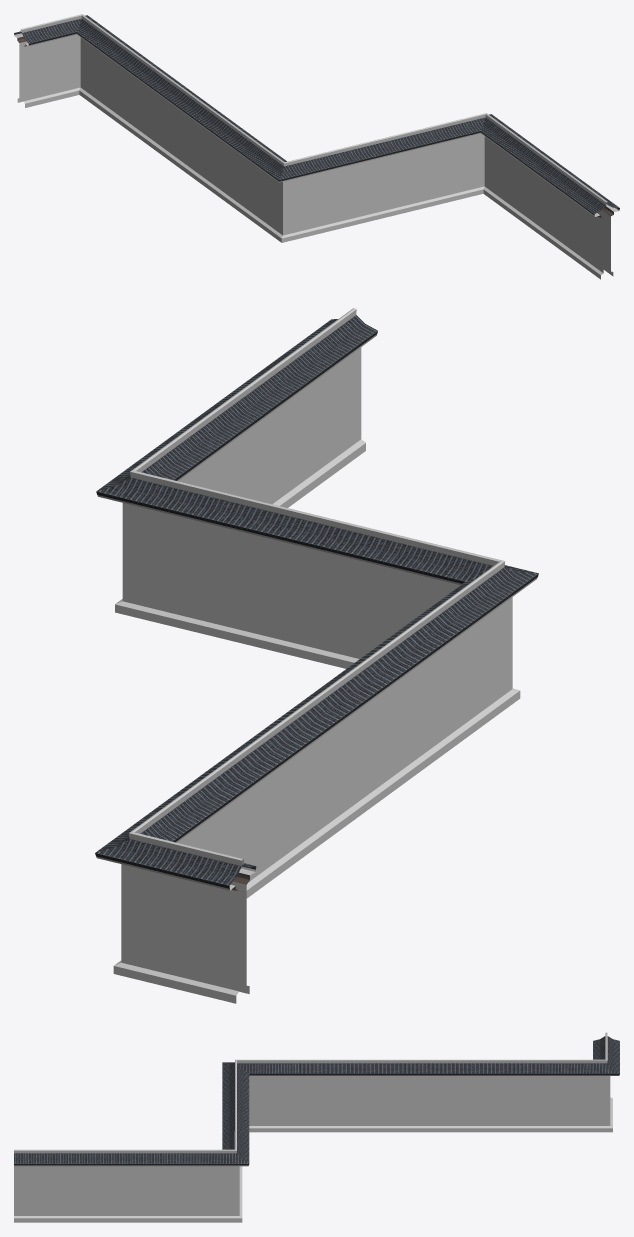
The model's file is JiaYeSi_WeiQiang_7.FBX.
3 views of the same model, one above another, from view 1: azimuth 30°, elevation 25°; view 2: azimuth 150°, elevation 25°; view 3: azimuth 270°, elevation 25° (orthographic). The views are drawn at different scales.
Visible parts, largest first — view 1: Object01, Object09; view 2: Object01, Object09; view 3: Object01, Object09.
Boxes of the visible parts, left/top/right/bottom form: Object01: left=14, top=14, right=619, bottom=279; Object09: left=14, top=15, right=619, bottom=218; Object01: left=96, top=308, right=537, bottom=1003; Object09: left=95, top=315, right=538, bottom=890; Object01: left=14, top=1032, right=619, bottom=1222; Object09: left=14, top=1036, right=619, bottom=1165.
Size of the model in its own units: 2690 by 713 by 5601.
